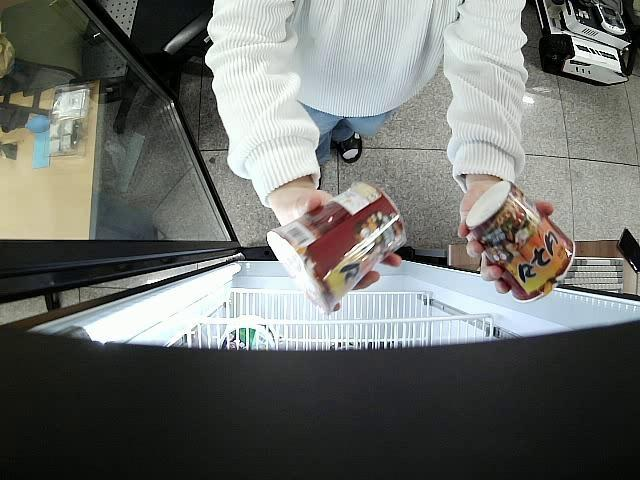06_nuguri_S: (266, 180, 406, 309), (467, 180, 575, 304)
